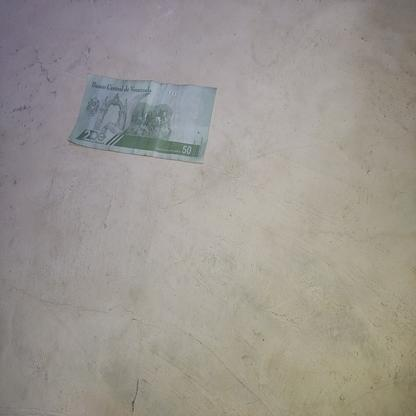fifty-back-vef: (67, 74, 217, 164)
